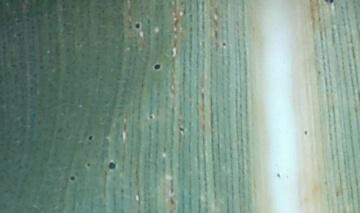tarspot: (151, 61, 162, 73), (107, 159, 117, 172), (85, 133, 95, 143), (167, 195, 176, 206), (176, 125, 186, 134), (133, 21, 141, 31), (74, 39, 82, 49), (68, 173, 76, 182), (274, 170, 282, 179), (147, 113, 155, 121), (302, 128, 309, 137), (316, 67, 323, 76), (85, 160, 92, 168), (220, 40, 227, 48), (322, 1, 336, 4)
